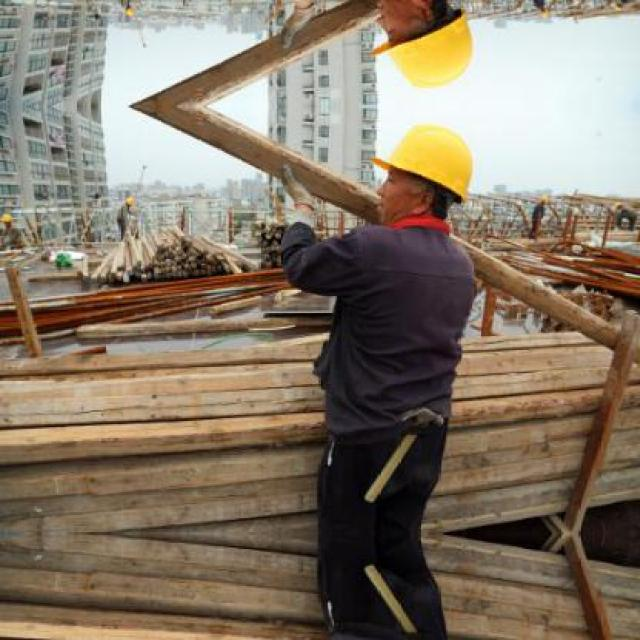helmet: (364, 113, 484, 235), (365, 0, 486, 100), (0, 208, 12, 227), (0, 0, 14, 5)
